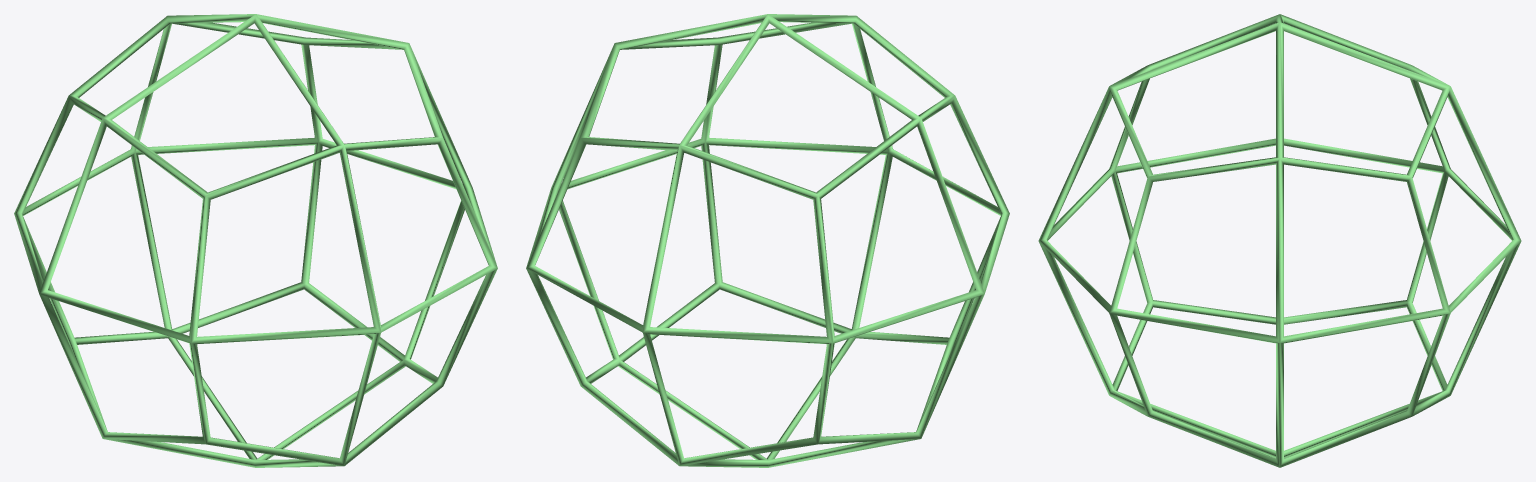
Rendered from DeltoidalIcositetrahedron1.glb.
3 renders of one model, left to right at view 1: azimuth 30°, elevation 25°; view 2: azimuth 150°, elevation 25°; view 3: azimuth 270°, elevation 25°, orthographic. The views are drawn at different scales.
Visible parts, largest first — view 1: DeltoidalIcositetrahedron; view 2: DeltoidalIcositetrahedron; view 3: DeltoidalIcositetrahedron.
Boxes of the visible parts, <box> form: DeltoidalIcositetrahedron: <box>14,14,497,467</box>; DeltoidalIcositetrahedron: <box>526,14,1009,467</box>; DeltoidalIcositetrahedron: <box>1038,14,1521,467</box>.
Bounding box in the file's own units: 2.88 × 2.88 × 2.88.
